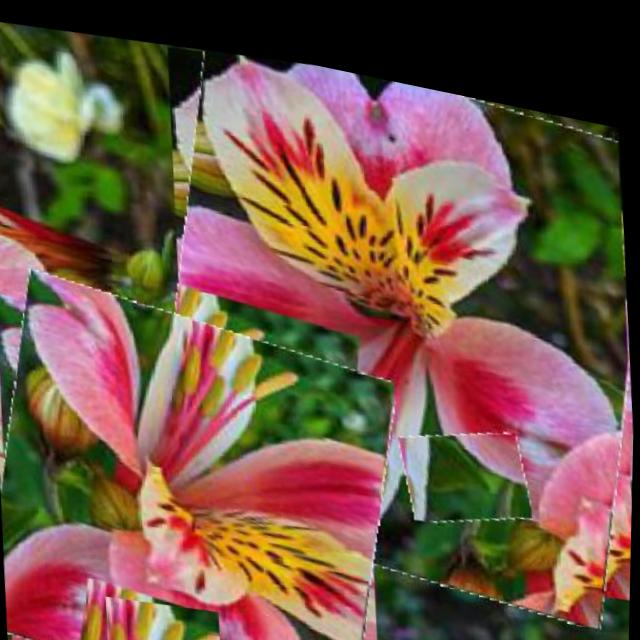Flower: (139, 24, 640, 623), (0, 251, 407, 640), (401, 395, 535, 518), (106, 583, 228, 640)
